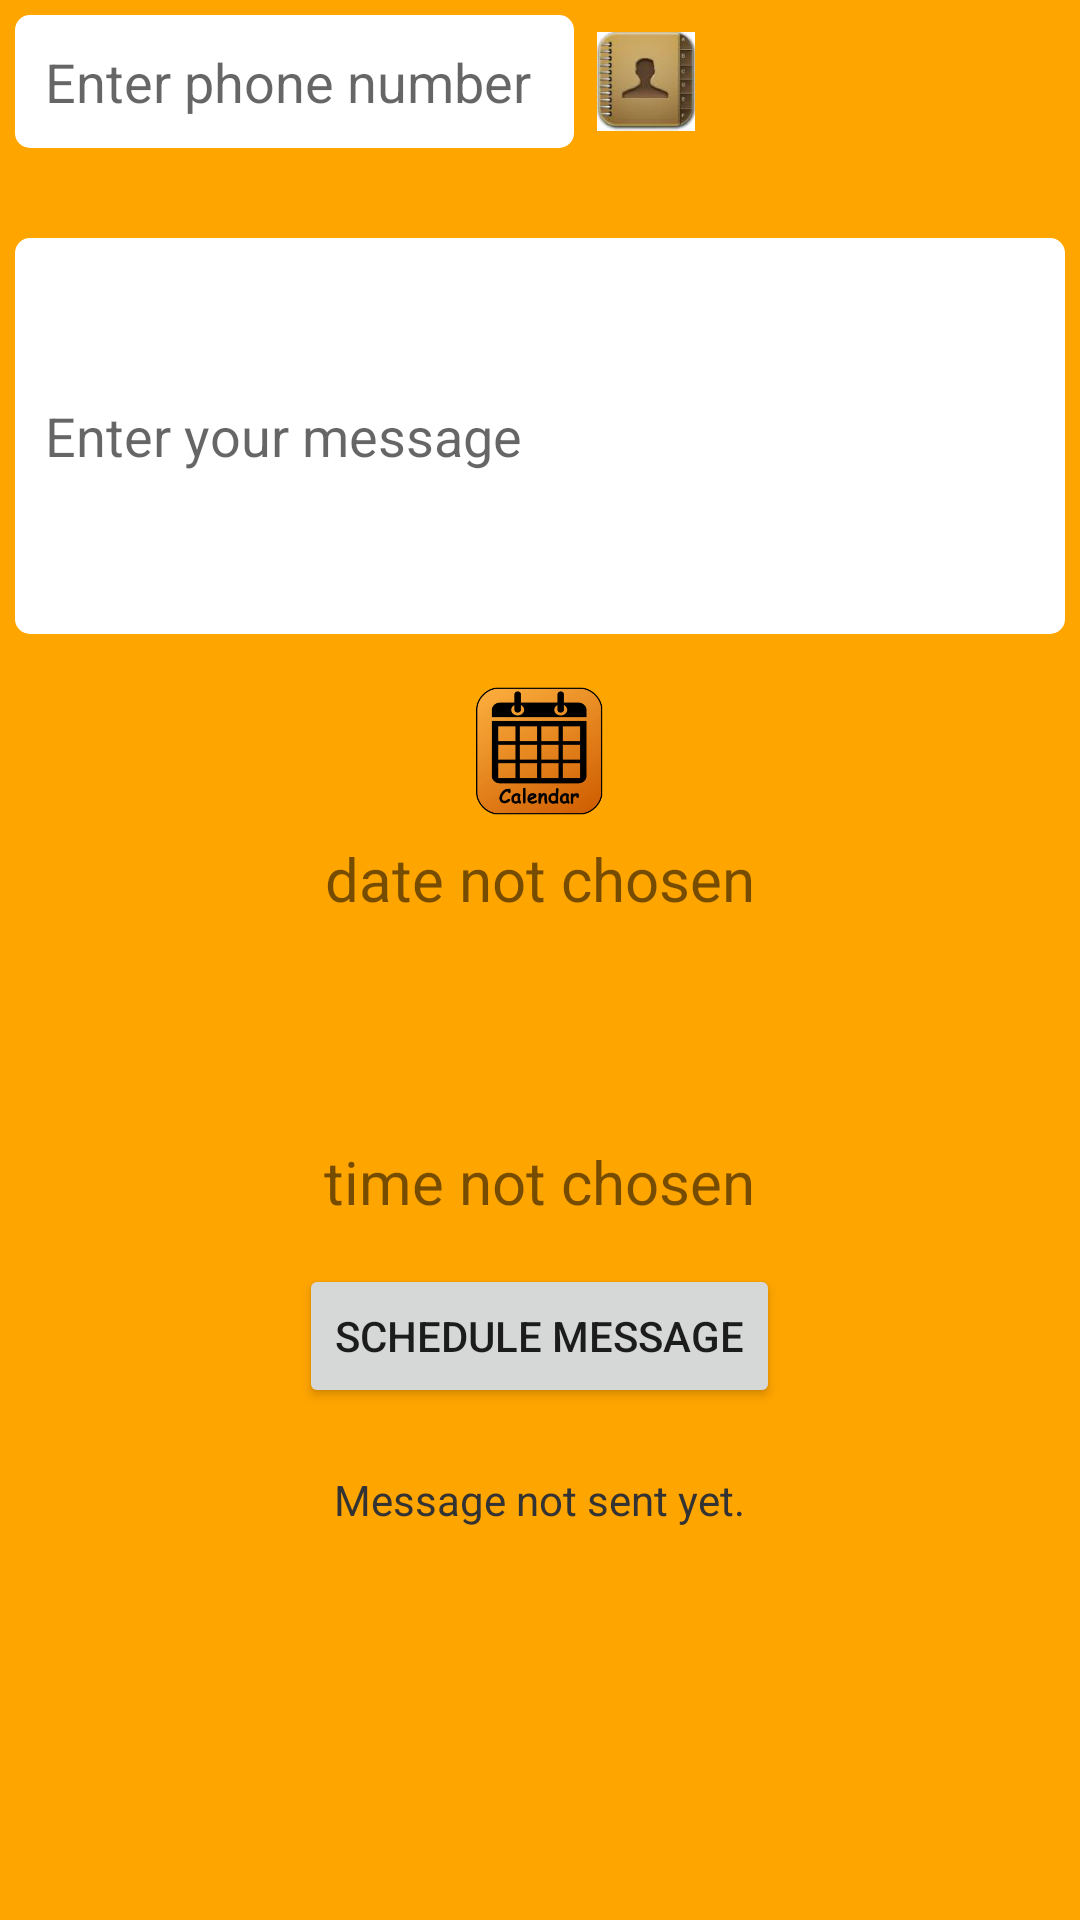

Named icons in this screenshot (1080 x 1920) and their bounding boxes, (x1, y1, x2, y2):
contacts: (597, 32, 695, 131)
